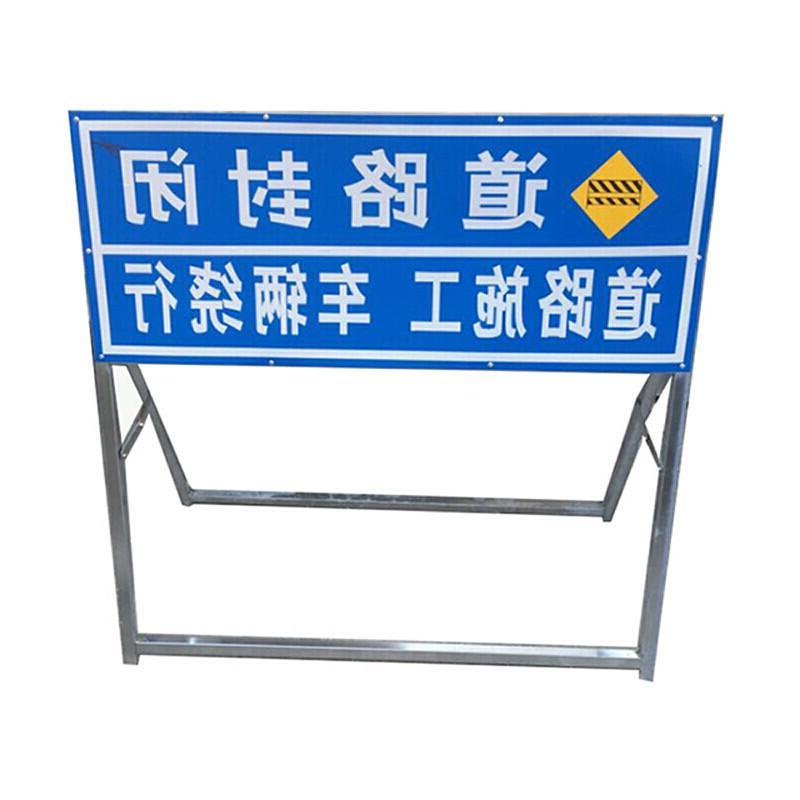sign: (74, 119, 722, 370)
